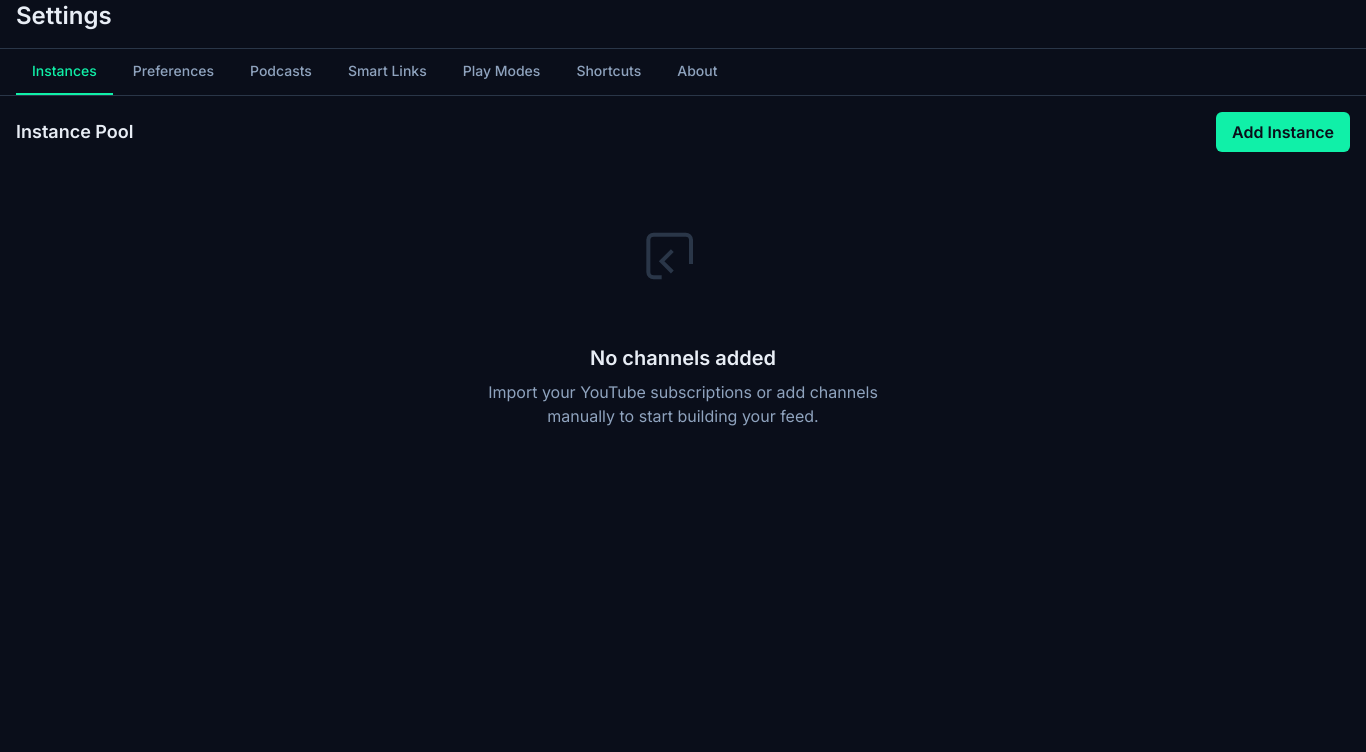
Test: 2a: the Settings theme control is truthful › offers exactly the themes that exist (Phase B: light now does)
Click the tab "Preferences": (173, 72) left=117, top=49, right=230, bottom=95
(page scrolled)
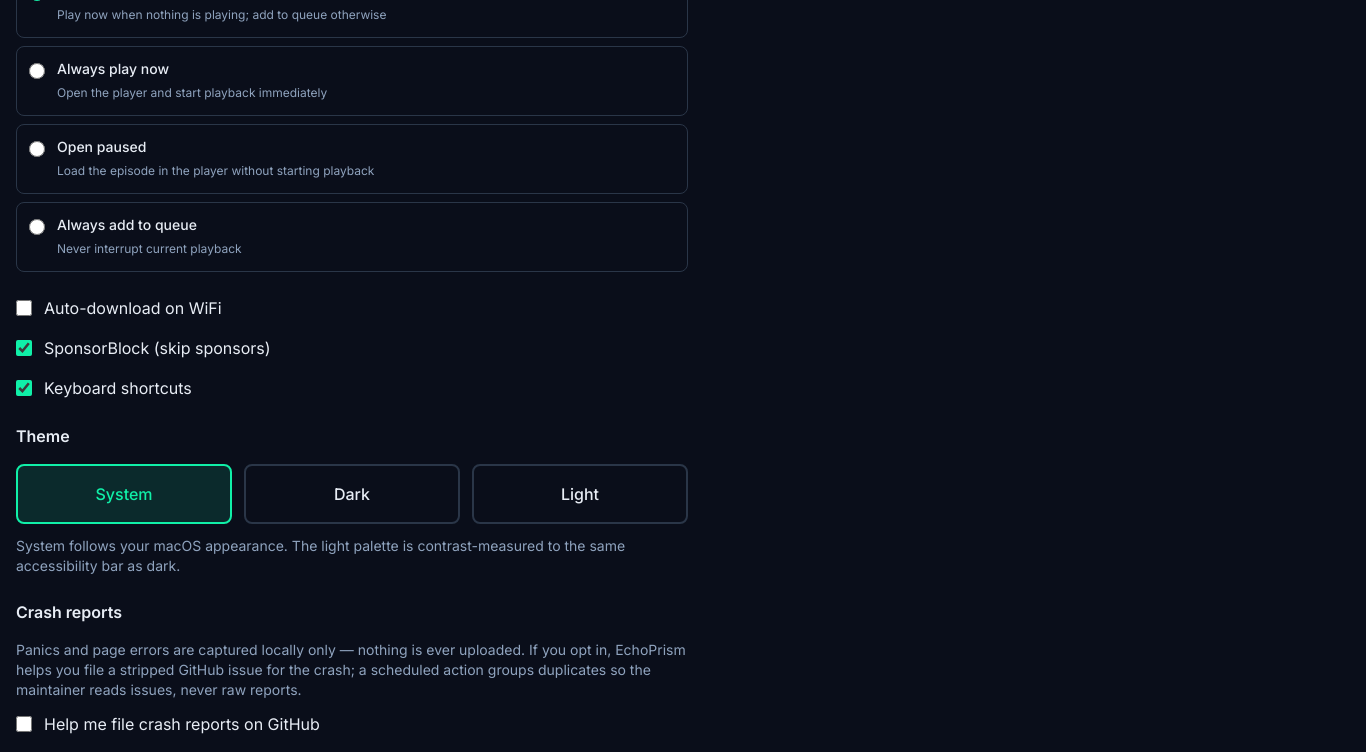
Expected: the heading "Theme" is shown, left=16, top=426, right=70, bottom=446
Expected: the text "dark" is shown, left=334, top=484, right=370, bottom=504
Expected: the text "system" is shown, left=96, top=484, right=153, bottom=504
